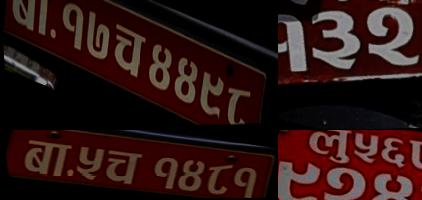1: (351, 0, 422, 73), (53, 0, 89, 57), (138, 154, 186, 191), (218, 164, 265, 198)
2: (312, 160, 375, 200)
3: (278, 5, 318, 78)
4: (142, 35, 178, 102), (166, 48, 203, 111), (354, 166, 422, 200), (165, 157, 212, 195)
5: (62, 144, 112, 183), (347, 130, 382, 166)
6: (373, 133, 415, 174)
7: (80, 3, 116, 70)
8: (217, 76, 254, 126), (192, 160, 238, 198)
9: (278, 151, 330, 200), (193, 65, 228, 125)
ba: (295, 4, 368, 73), (8, 134, 81, 180), (4, 0, 55, 42)
cha: (105, 16, 151, 88), (90, 147, 151, 188)
lu: (298, 130, 356, 166)
pa: (401, 136, 422, 179)
